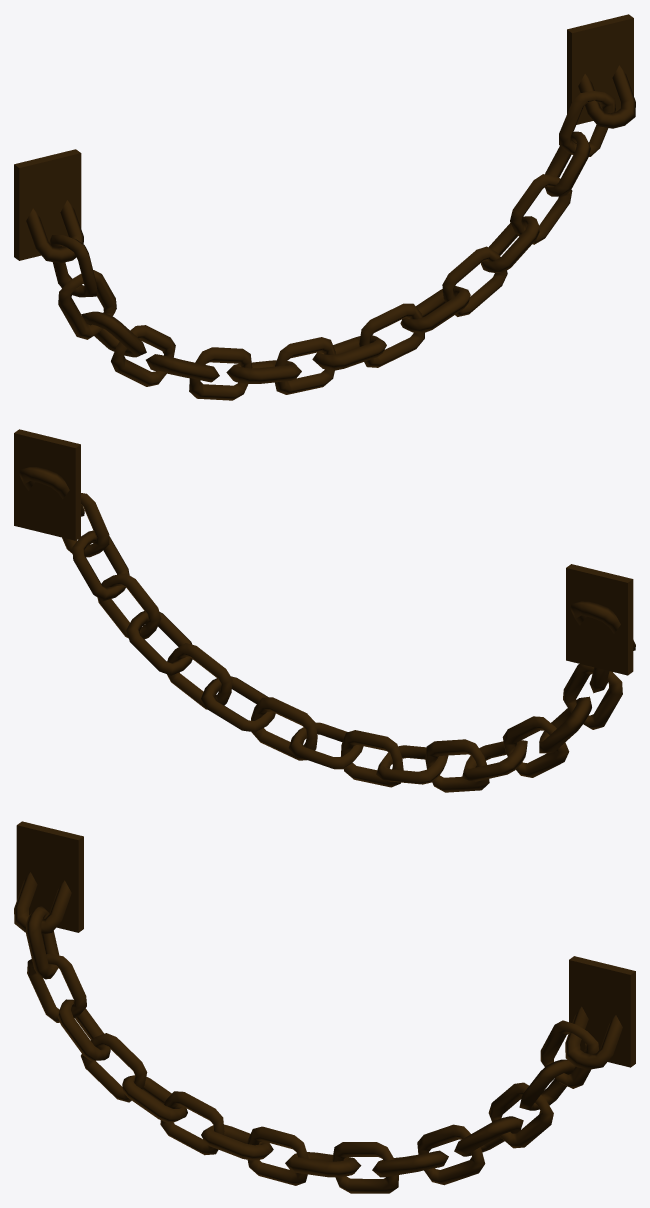
Rendered from ChainOnTheWall.fbx.
The picture shows the model from 3 angles, top to bottom: view 1: azimuth 30°, elevation 25°; view 2: azimuth 150°, elevation 25°; view 3: azimuth 330°, elevation 25°; orthographic projection.
Parts seen in each view (by area): view 1: chain, cubes; view 2: chain, cubes; view 3: chain, cubes.
Boxes of the visible parts, left/top/right/bottom form: chain: left=26, top=65, right=635, bottom=400; cubes: left=14, top=14, right=633, bottom=260; chain: left=19, top=467, right=635, bottom=792; cubes: left=14, top=429, right=633, bottom=675; chain: left=14, top=872, right=622, bottom=1193; cubes: left=16, top=821, right=635, bottom=1067.
Size of the model in its own units: 97.34 by 42.54 by 11.63.
